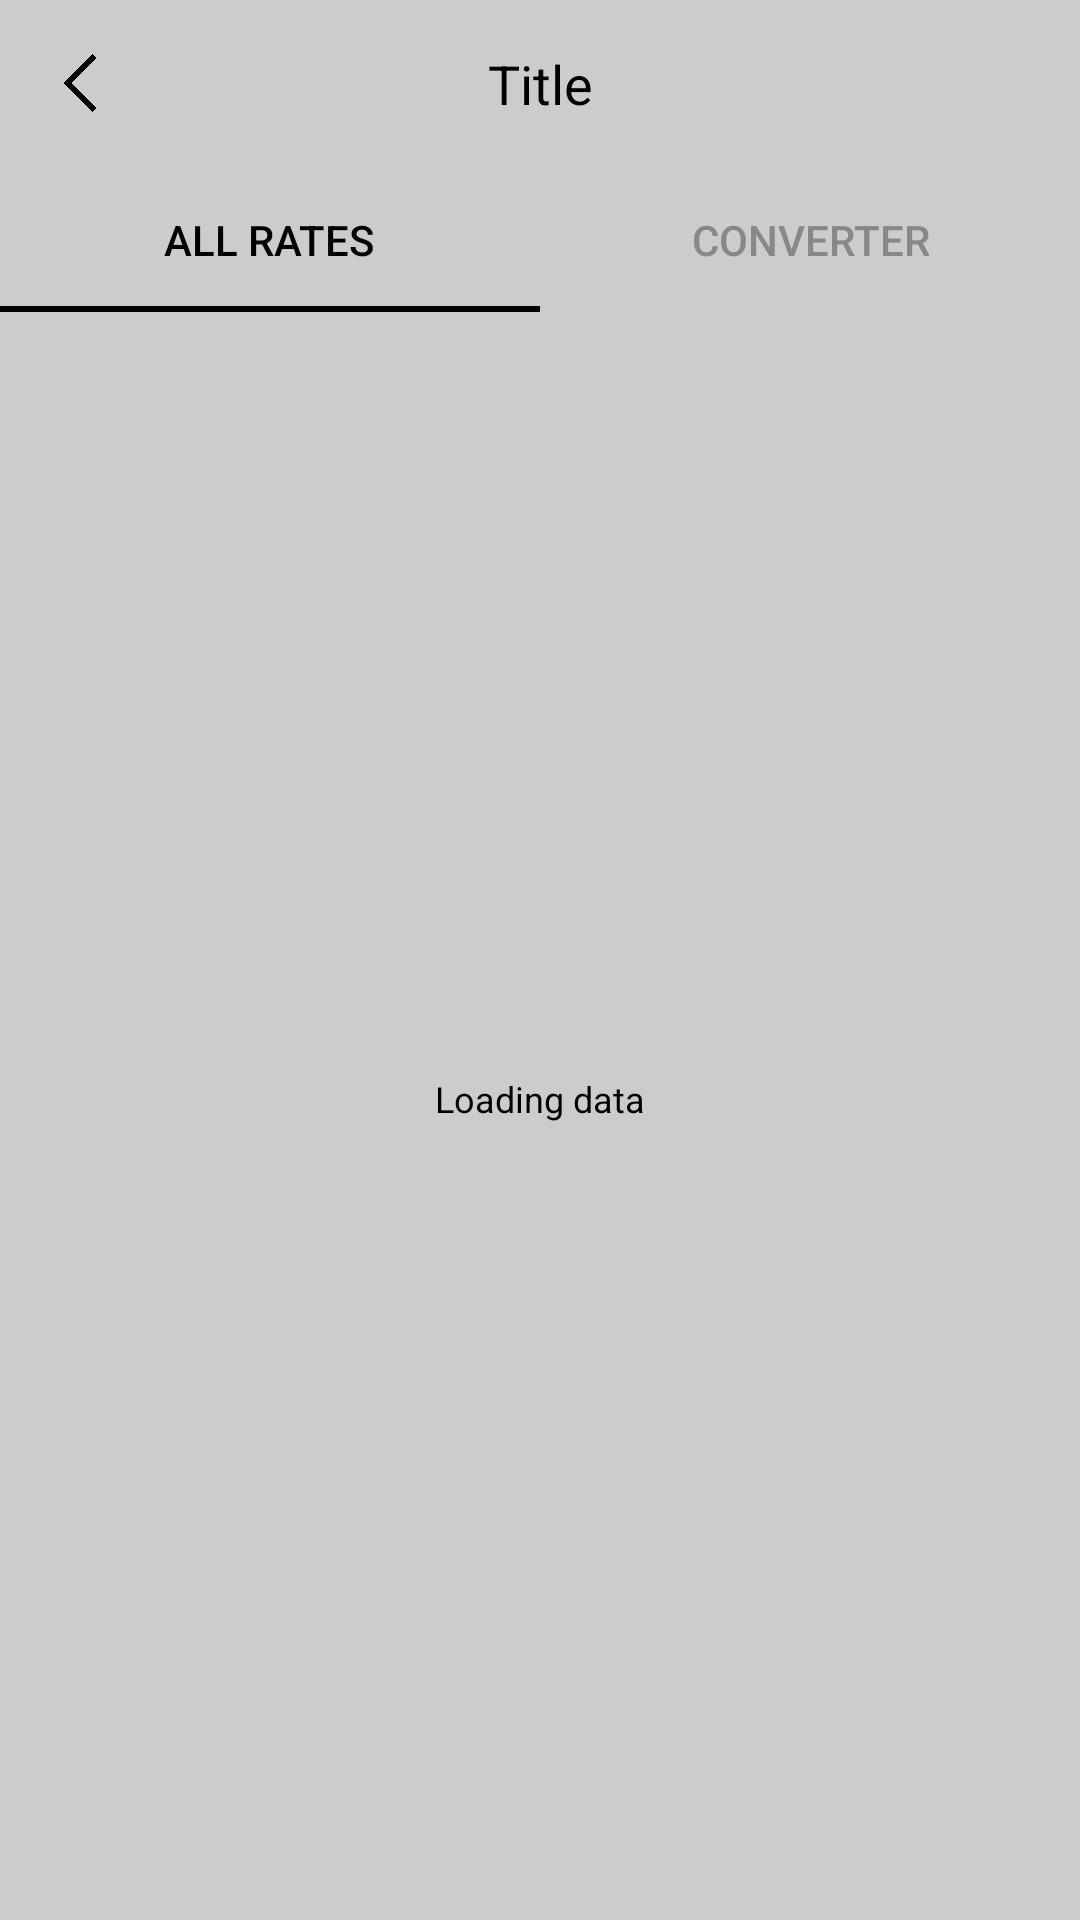

Locate icon controls on the screen. Image size 1080 x 1920, boxes as [x1,y1,x2,y2].
back arrow: [64,54,96,112]
